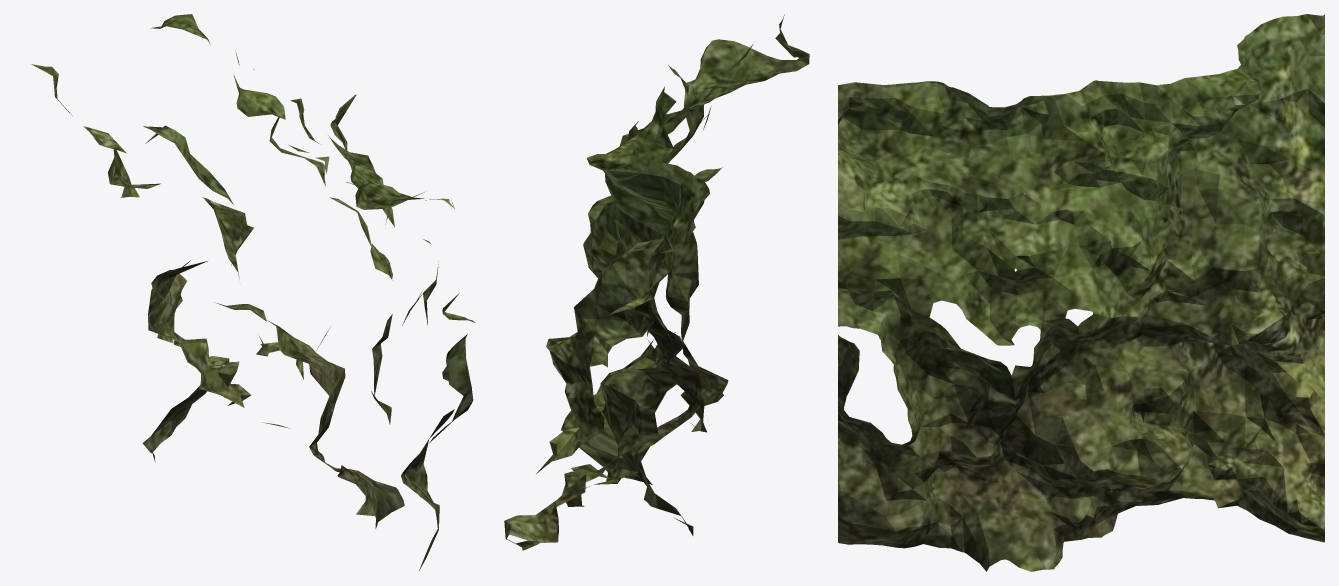
3 views of the same model, side by side, from view 1: azimuth 30°, elevation 25°; view 2: azimuth 150°, elevation 25°; view 3: azimuth 270°, elevation 25° (orthographic). The views are drawn at different scales.
Size of the model in its own units: 1.67 by 2.95 by 2.95.
Materials: 4 (4 with a texture image).
